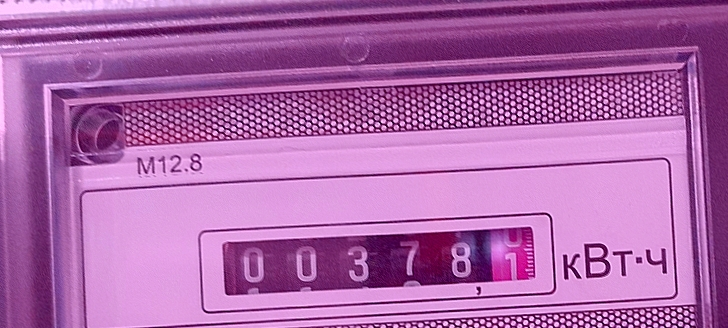0: (240, 242, 268, 283), (293, 242, 319, 281), (502, 225, 524, 247)
1: (501, 248, 521, 280)
3: (344, 242, 371, 283)
7: (397, 236, 421, 275)
8: (448, 238, 473, 278)
screen: (202, 207, 555, 304)
